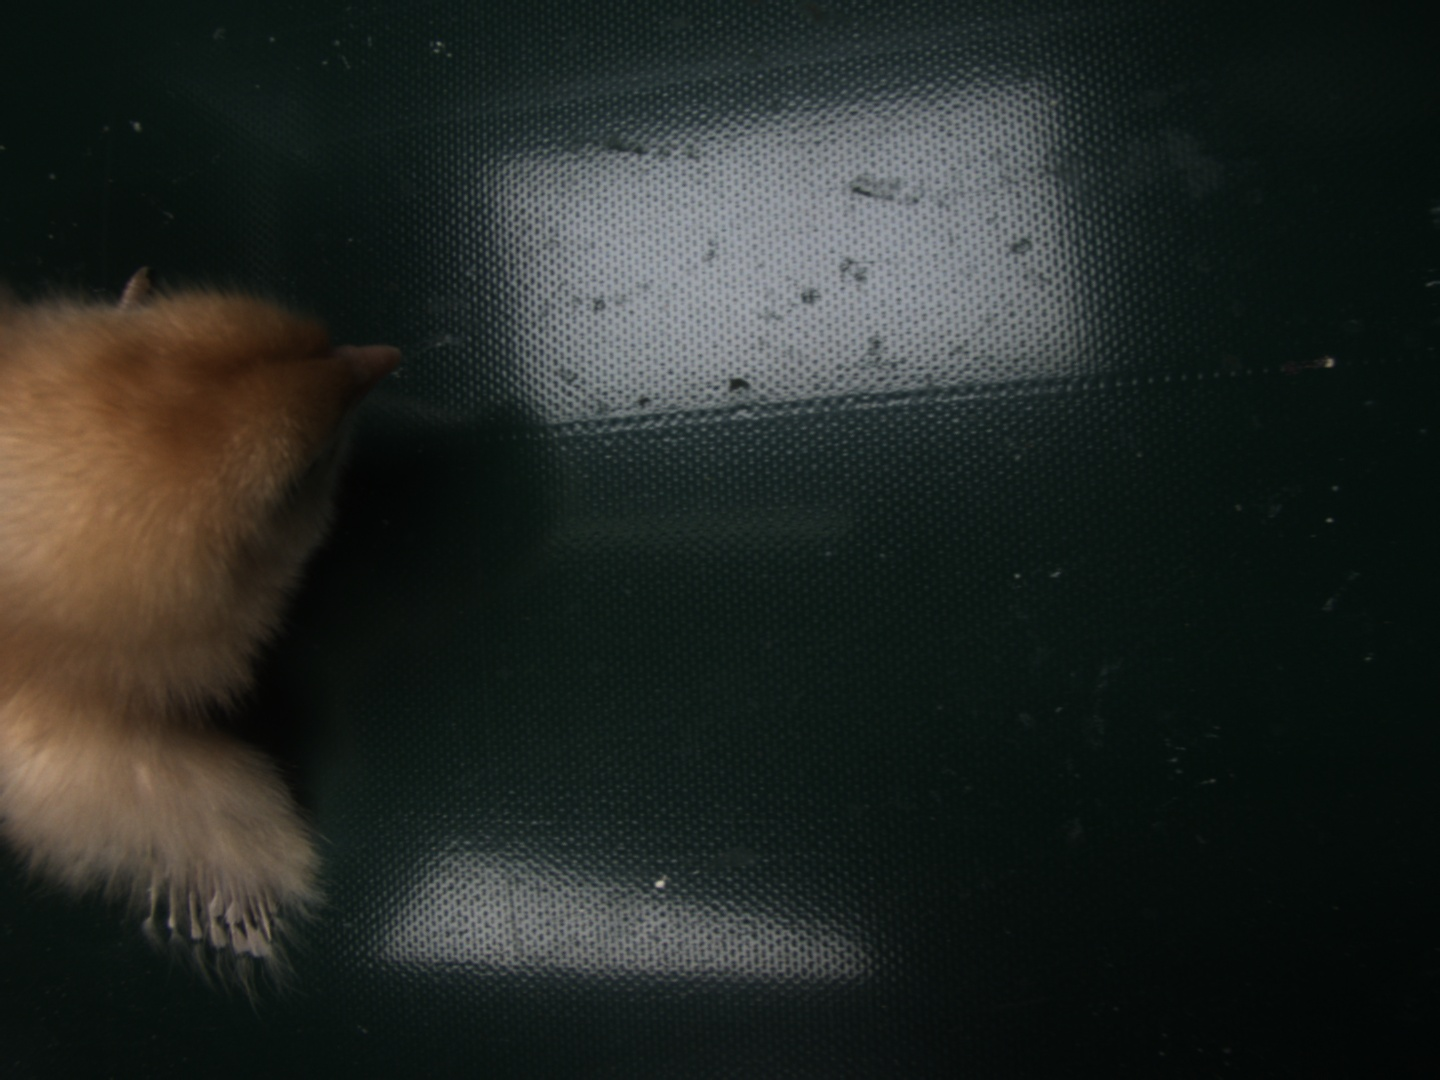female: (136, 866, 286, 964)
